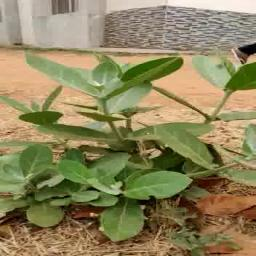CALOTROPIS: (28, 57, 256, 221)
